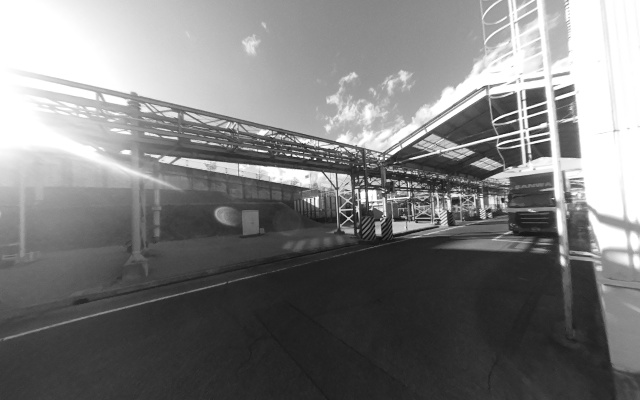bollard: (360, 215, 376, 243), (379, 216, 395, 242), (438, 210, 454, 229), (479, 207, 487, 220)
